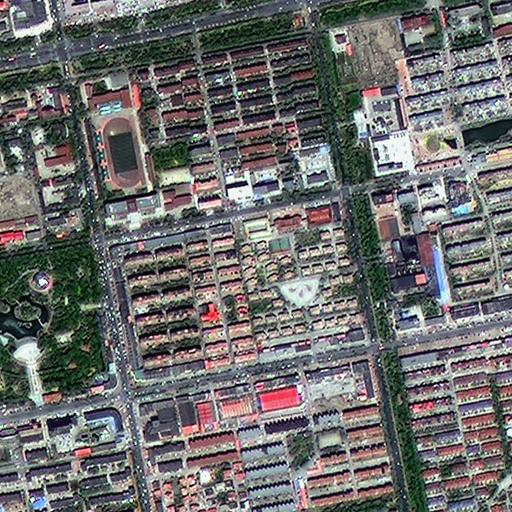school: (76, 63, 158, 218)
